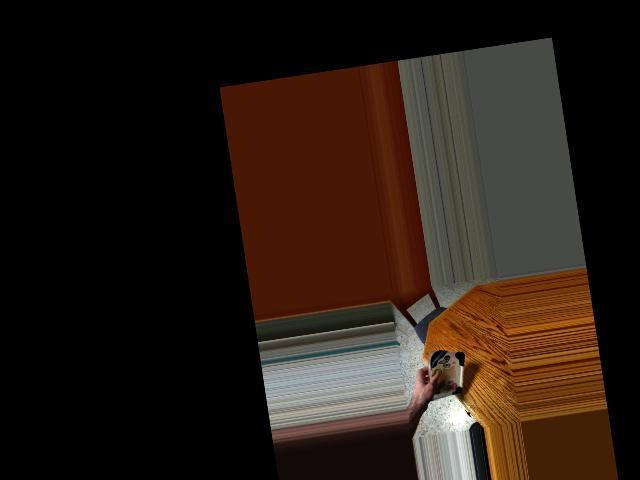cheese: (421, 345, 468, 409)
